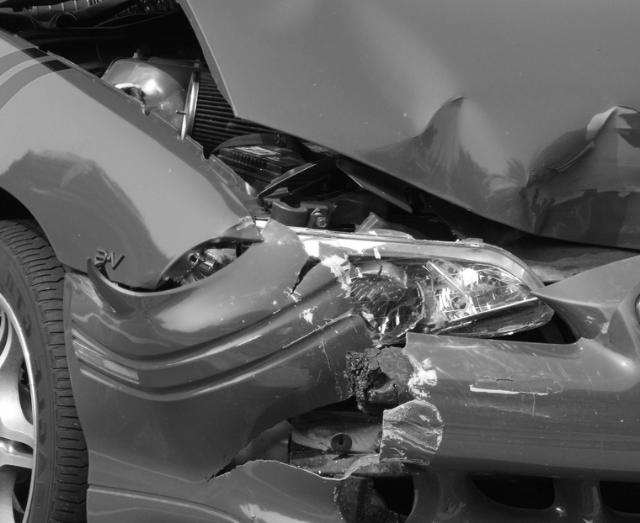Bonnet: (367, 26, 640, 234)
Bumper: (121, 314, 640, 523)
Light: (309, 230, 533, 336)
